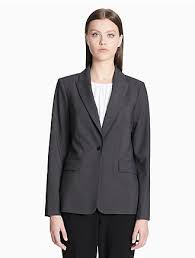F_W_suit jacket: (40, 61, 157, 223)
